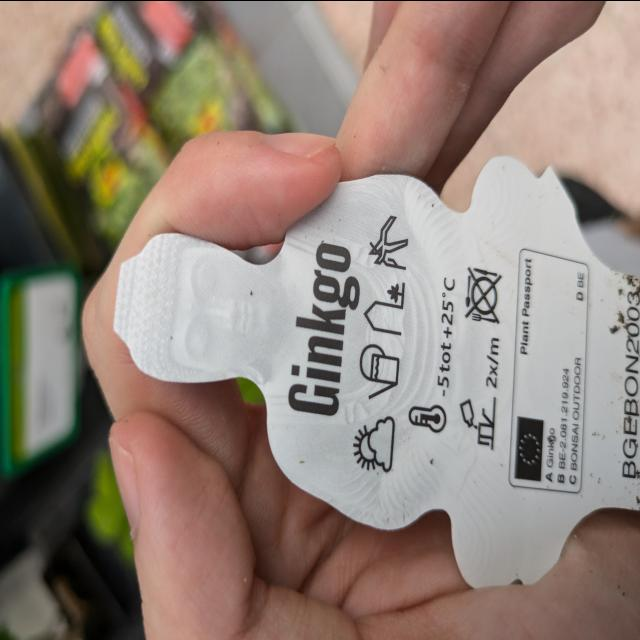dungen: (451, 317, 507, 448)
halb sonnig schattig: (349, 413, 400, 474)
viel giesen: (356, 348, 404, 400)
